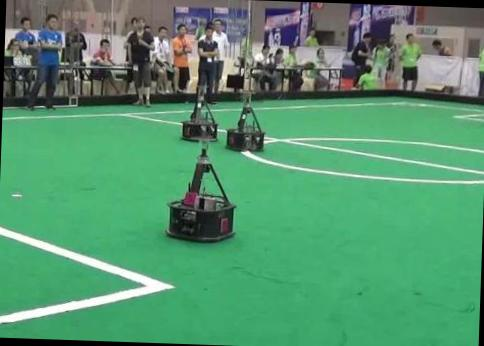person: (27, 14, 62, 109), (127, 18, 154, 106)
robot: (166, 149, 234, 241), (226, 91, 264, 151), (182, 85, 217, 141)
